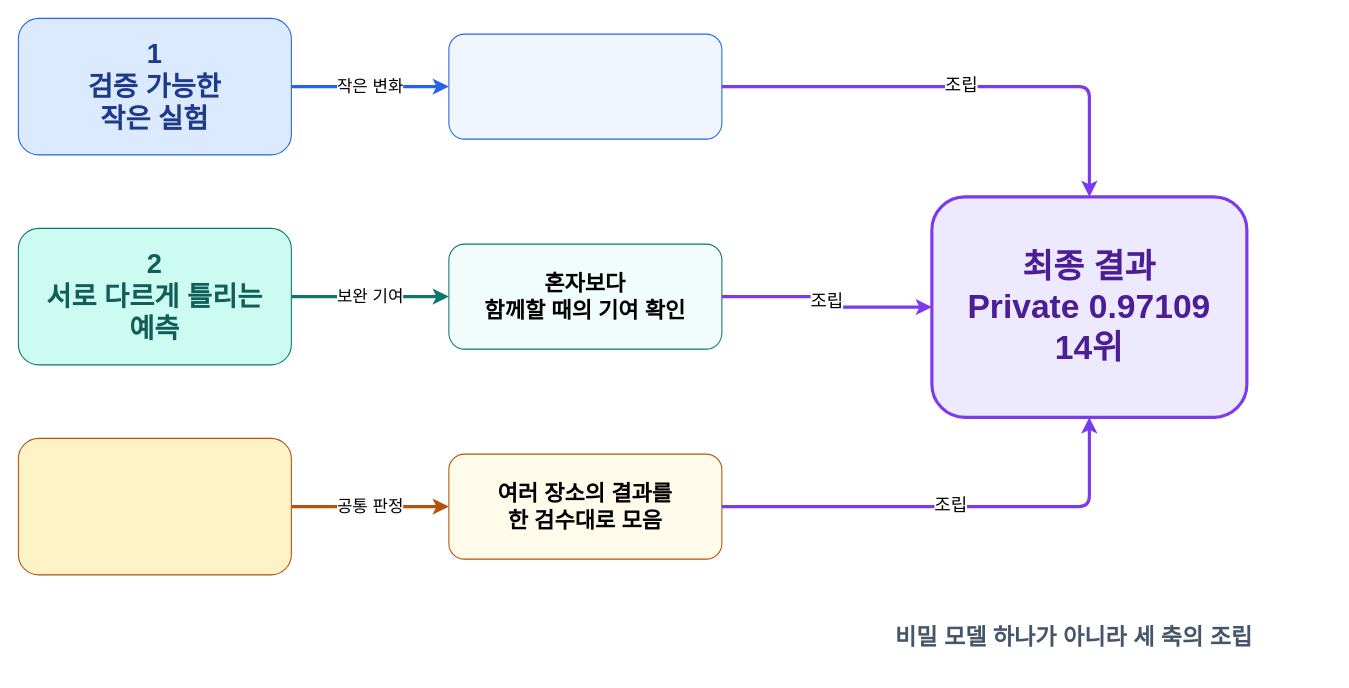
Some shapes in this 1349 by 688 pixel diagram are drawn without their labels. Each missing label, with the box of its shape:
3 실험 실행 체계: (17, 437, 291, 575)
작게 비교하고 근거가 약하면 멈춤: (448, 33, 722, 139)
